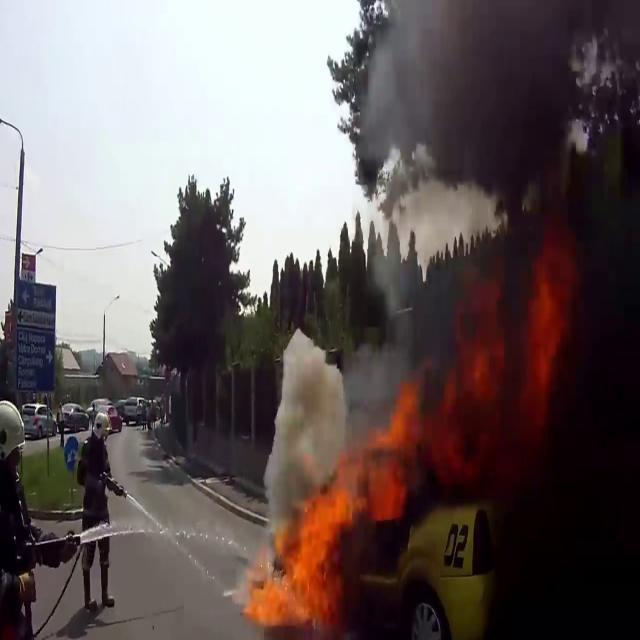Fire: (236, 394, 423, 630)
Smoke: (356, 1, 640, 486), (264, 314, 348, 506)
